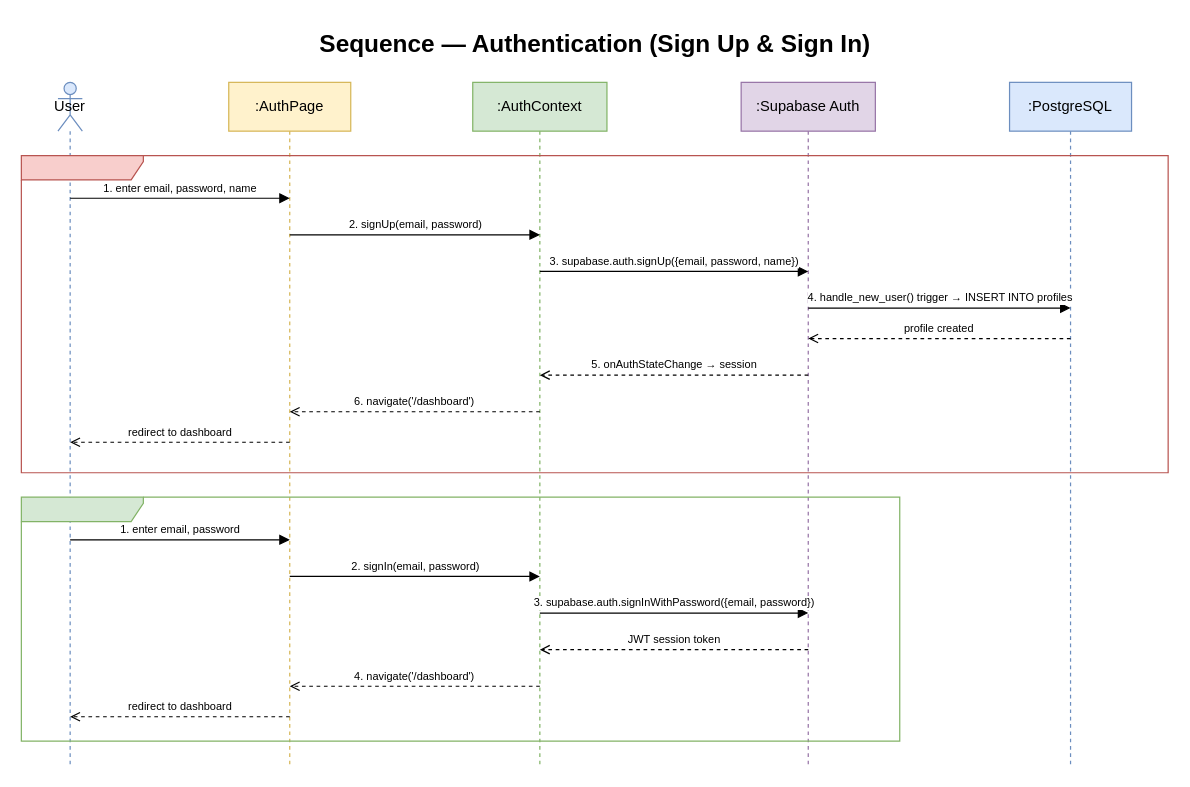
Image size: 1190x787. Some labels were removed from this diagram. The centre of each missing label's shape, as x and y in pixels:
"Sign In Flow" belongs at (460,618).
"Sign Up Flow" belongs at (594,313).
